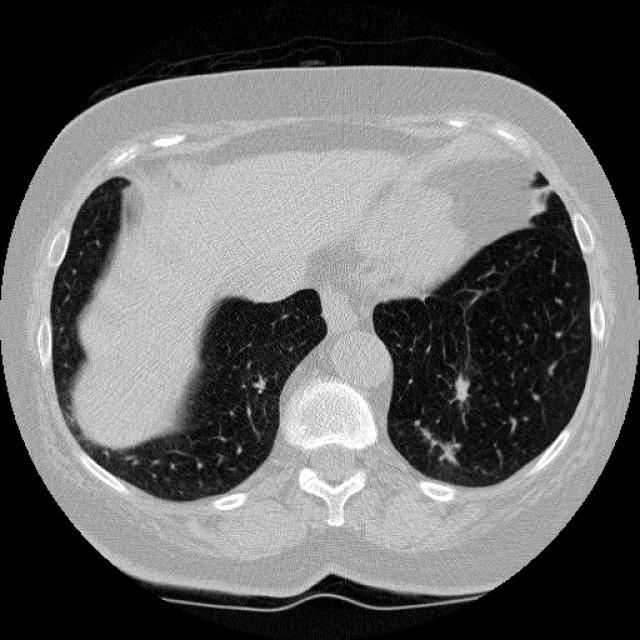nodule: (434, 362, 488, 418)
